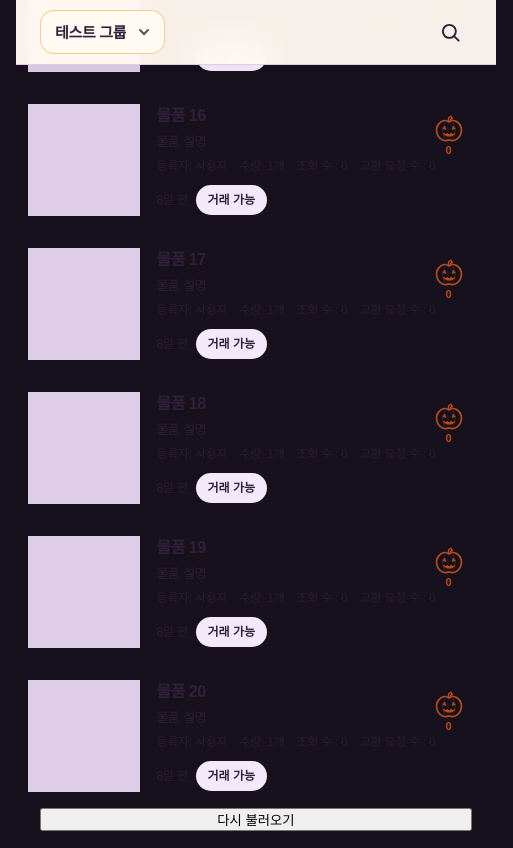
Scenario: 추가 조회 실패 후 버튼으로 같은 커서를 재시도한다
Expected: the heading "물품 20" is shown, [156,683,206,700]
Click the button "다시 불러오기".
click(256, 820)  # box [40,808,472,831]
(page scrolled)
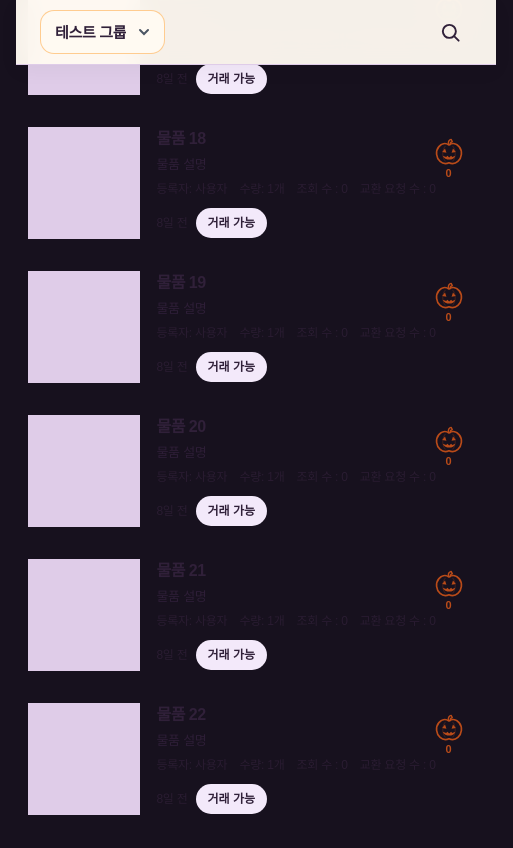
Expected: the heading "물품 22" is shown, [156,706,206,723]
